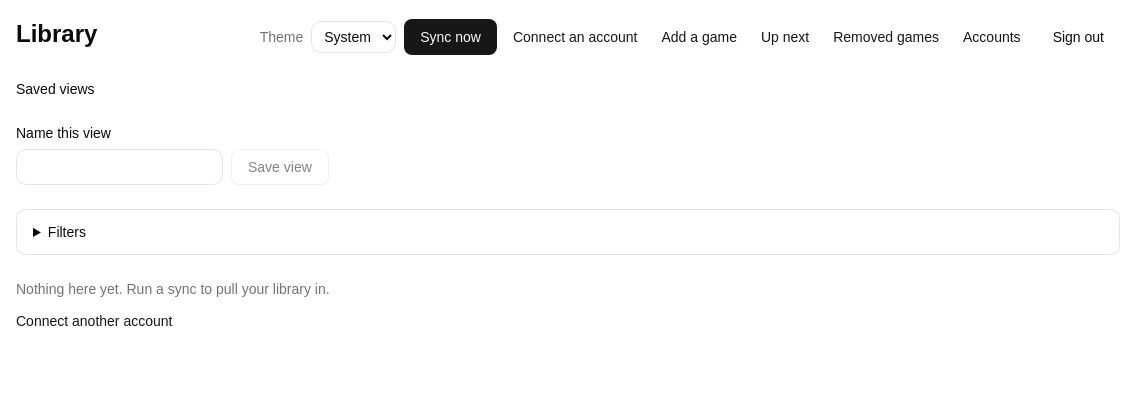
Scenario: library › reports a run that failed rather than pretending it worked
The image size is (1137, 405).
Click the button "Sync now": (451, 37) [404,19,497,55]
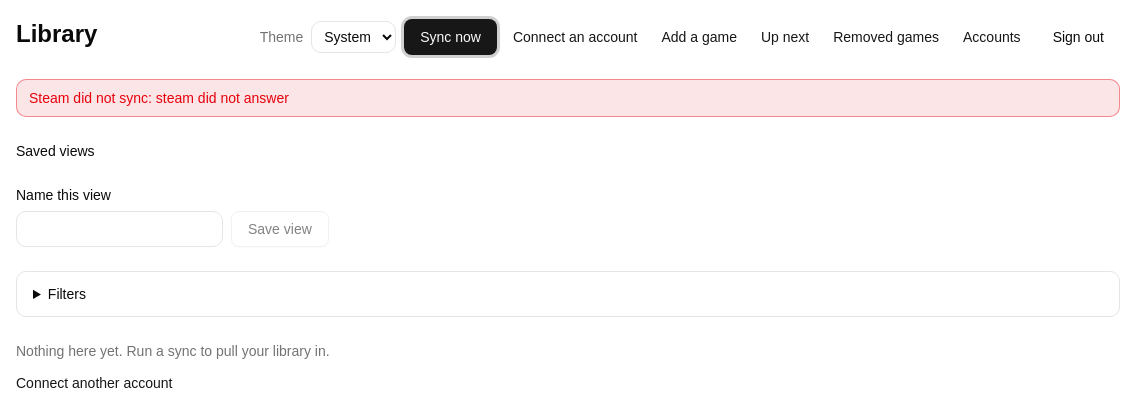
Check: the message shows "steam did not answer", box [29,90,289,106]
